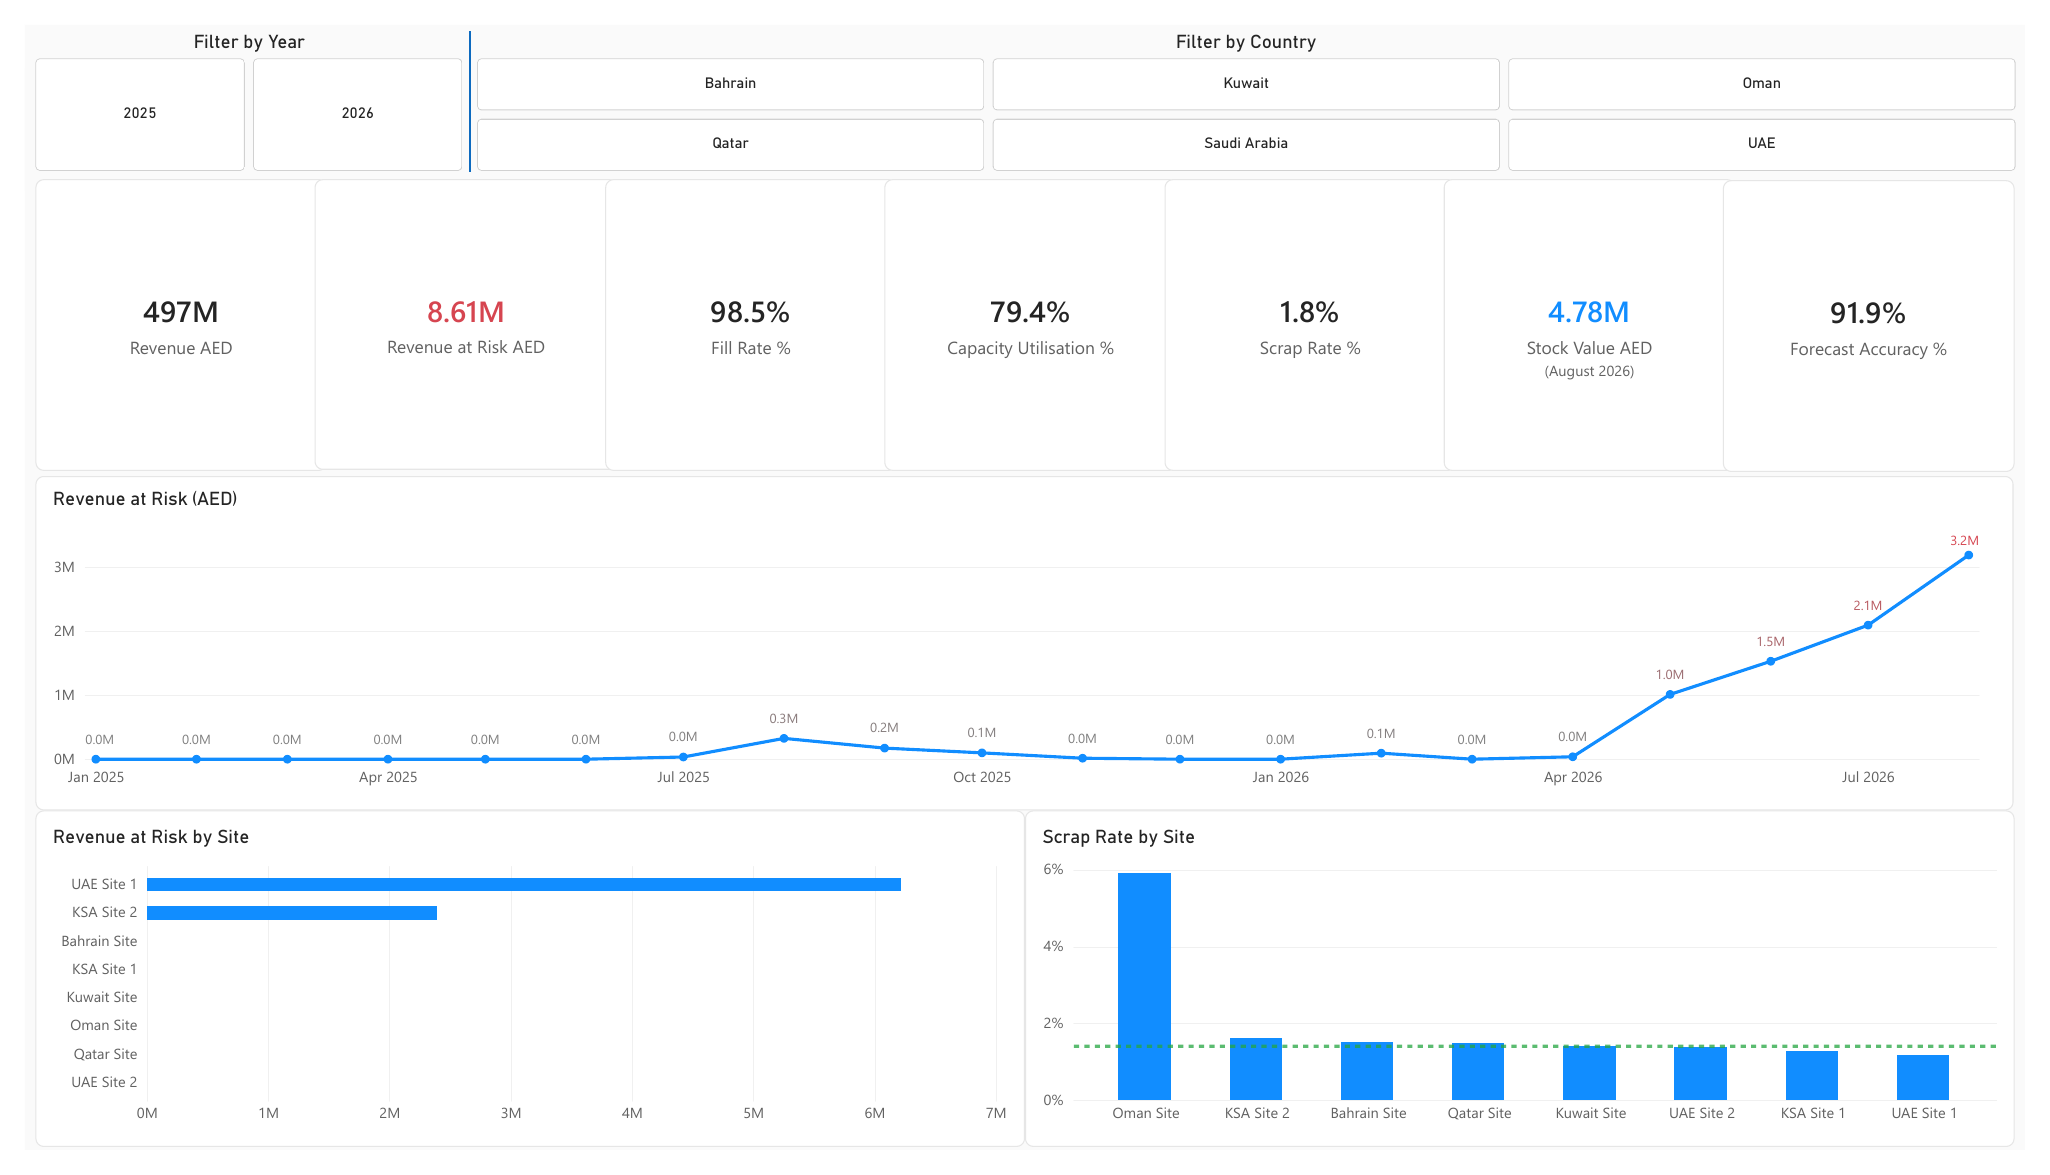

The dashboard page shown, as its layout file describes it:
{"tool":"powerbi","page":{"name":"Executive Summary","canvas":[1920,1080],"ordinal":0},"visuals":[{"type":"card","fields":{"Values":["_Measures.Revenue AED"]},"box":[10,147.7,280,280],"z":0},{"type":"card","fields":{"Values":["_Measures.Revenue at Risk AED"]},"box":[278,147.7,291.2,279.7],"z":1000},{"type":"card","fields":{"Values":["_Measures.Fill Rate %"]},"box":[557.3,147.7,280,280],"z":2000},{"type":"card","fields":{"Values":["_Measures.Capacity Utilisation %"]},"box":[825.3,147.7,280.4,280.4],"z":3000},{"type":"card","fields":{"Values":["_Measures.Scrap Rate %"]},"box":[1093.7,147.7,280,280],"z":4000},{"type":"card","fields":{"Values":["_Measures.Stock Value AED"]},"box":[1361.7,147.7,280,280],"z":5000},{"type":"card","fields":{"Values":["_Measures.Forecast Accuracy %"]},"box":[1629.7,148.6,280,280],"z":6000},{"type":"lineChart","title":"Revenue at Risk (AED)","fields":{"Category":["Dim_Date.Year_Month.Variation.Date Hierarchy.Year","Dim_Date.Year_Month.Variation.Date Hierarchy.Month"],"Y":["_Measures.Revenue at Risk AED"]},"box":[9.7,432.9,1899.7,321.3],"z":7000},{"type":"clusteredBarChart","title":"Revenue at Risk by Site","fields":{"Category":["Dim_Plant.Plant_Name"],"Y":["_Measures.Revenue at Risk AED"]},"box":[9.9,754,950.1,323.3],"z":8000},{"type":"clusteredColumnChart","title":"Scrap Rate by Site","fields":{"Category":["Dim_Plant.Plant_Name"],"Y":["_Measures.Scrap Rate %"]},"box":[960,754,950.1,323.3],"z":9000},{"type":"advancedSlicerVisual","title":"Filter by Year","fields":{"Values":["Dim_Date.Year"]},"box":[10,5.9,411.4,134.9],"z":10000},{"type":"advancedSlicerVisual","title":"Filter by Country","fields":{"Values":["Dim_Plant.Country"]},"box":[433.8,5.9,1477.1,134.9],"z":11000},{"type":"shape","box":[420.9,5.7,12.4,134.9],"z":12000},{"type":"textbox","box":[99.5,99.5,82.8,23.7],"z":13000},{"type":"textbox","box":[1368,322.3,268.1,23.7],"z":14000}]}

Visuals, with their boxes in screenshot pixels (x1, y1, x2, y2), scaled from the page's 1920x1080 canvas onto the 2050x1175 screenshot:
card - _Measures.Revenue AED: (x1=11, y1=161, x2=310, y2=465)
card - _Measures.Revenue at Risk AED: (x1=297, y1=161, x2=608, y2=465)
card - _Measures.Fill Rate %: (x1=595, y1=161, x2=894, y2=465)
card - _Measures.Capacity Utilisation %: (x1=881, y1=161, x2=1181, y2=466)
card - _Measures.Scrap Rate %: (x1=1168, y1=161, x2=1467, y2=465)
card - _Measures.Stock Value AED: (x1=1454, y1=161, x2=1753, y2=465)
card - _Measures.Forecast Accuracy %: (x1=1740, y1=162, x2=2039, y2=466)
"Revenue at Risk (AED)" lineChart: (x1=10, y1=471, x2=2039, y2=821)
"Revenue at Risk by Site" clusteredBarChart: (x1=11, y1=820, x2=1025, y2=1172)
"Scrap Rate by Site" clusteredColumnChart: (x1=1025, y1=820, x2=2039, y2=1172)
"Filter by Year" advancedSlicerVisual: (x1=11, y1=6, x2=450, y2=153)
"Filter by Country" advancedSlicerVisual: (x1=463, y1=6, x2=2040, y2=153)
shape: (x1=449, y1=6, x2=463, y2=153)
textbox: (x1=106, y1=108, x2=195, y2=134)
textbox: (x1=1461, y1=351, x2=1747, y2=376)
